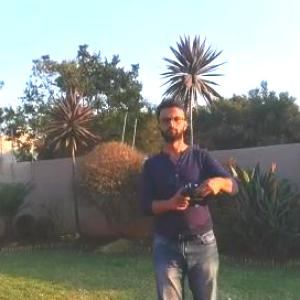follow: (139, 95, 244, 299)
